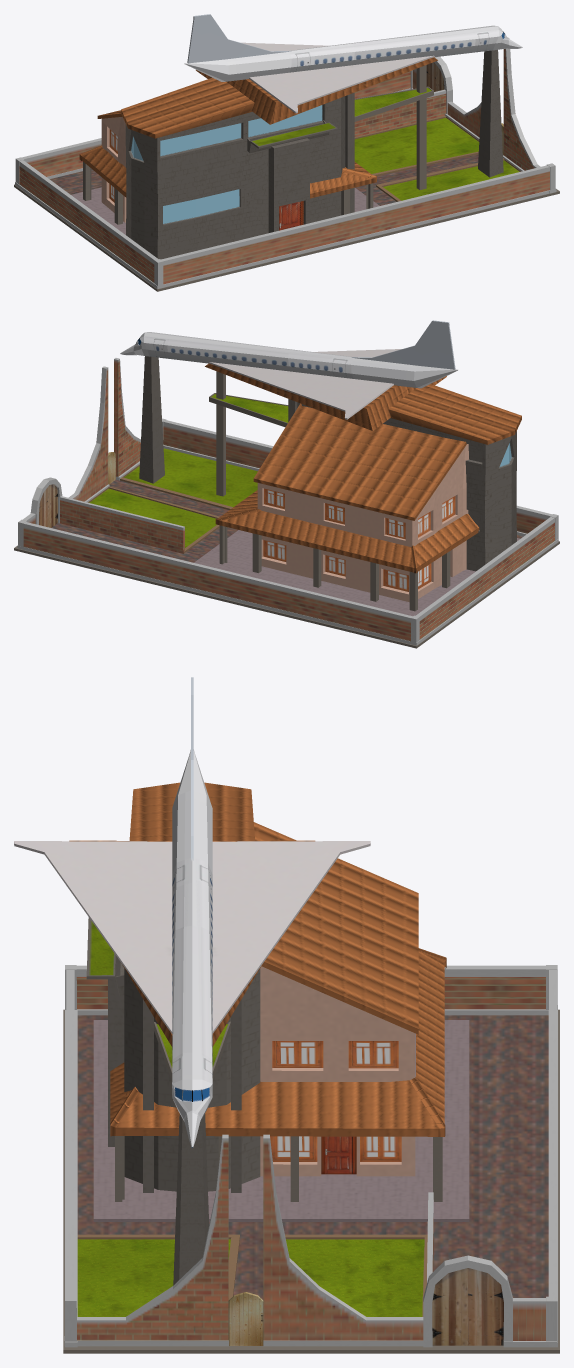
Rendered from CasaDoAviao.fbx.
3 views of the same model, one above another, from view 1: azimuth 30°, elevation 25°; view 2: azimuth 150°, elevation 25°; view 3: azimuth 270°, elevation 25° (orthographic). The views are drawn at different scales.
Parts seen in each view (by area): view 1: CasaDoAviao; view 2: CasaDoAviao; view 3: CasaDoAviao.
Boxes of the visible parts, left/top/right/bottom form: CasaDoAviao: left=14, top=14, right=559, bottom=291; CasaDoAviao: left=14, top=320, right=559, bottom=648; CasaDoAviao: left=14, top=677, right=559, bottom=1353.
Bounding box in the file's own units: 3920 × 2170 × 2659.
1 material, 1 textured.
